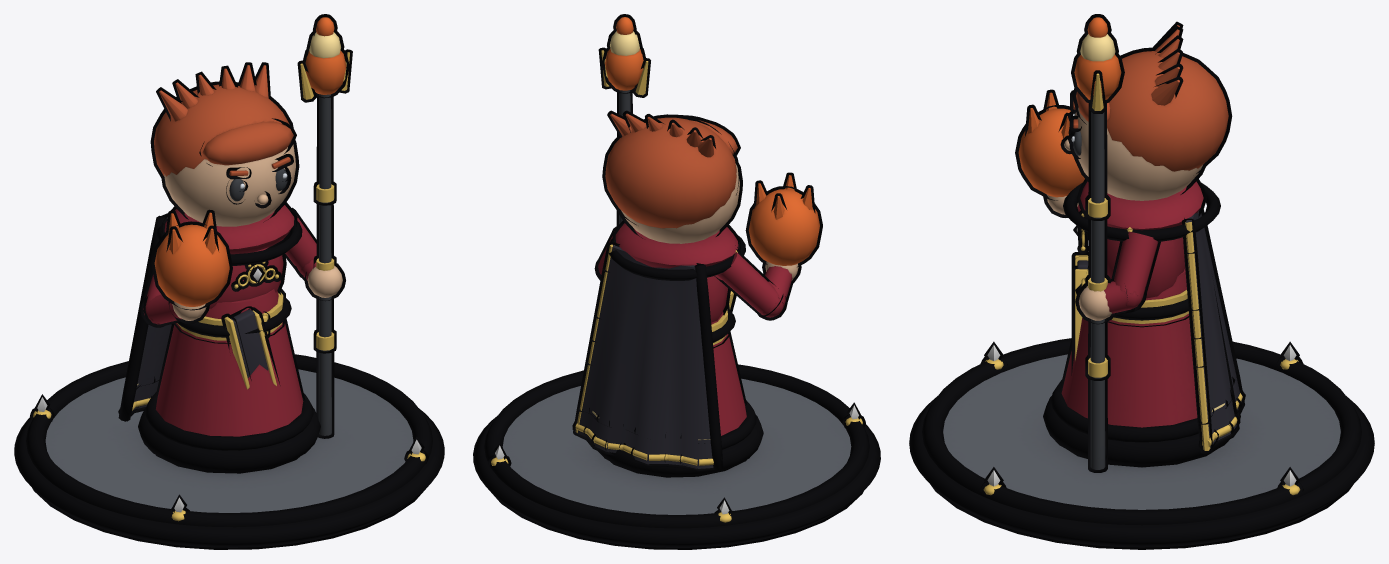
File: pyromancer_s4.fbx
3 views of the same model, side by side, from view 1: azimuth 30°, elevation 25°; view 2: azimuth 150°, elevation 25°; view 3: azimuth 270°, elevation 25° (orthographic). The views are drawn at different scales.
Visible parts, largest first — view 1: pyromancer_s4; view 2: pyromancer_s4; view 3: pyromancer_s4.
Boxes of the visible parts, x1,y1,x2,y2 form: pyromancer_s4: (14, 14, 444, 549); pyromancer_s4: (473, 14, 880, 549); pyromancer_s4: (909, 14, 1374, 549).
Size of the model in its own units: 1.58 by 1.8 by 1.58.
Materials: 2 (1 with a texture image).
